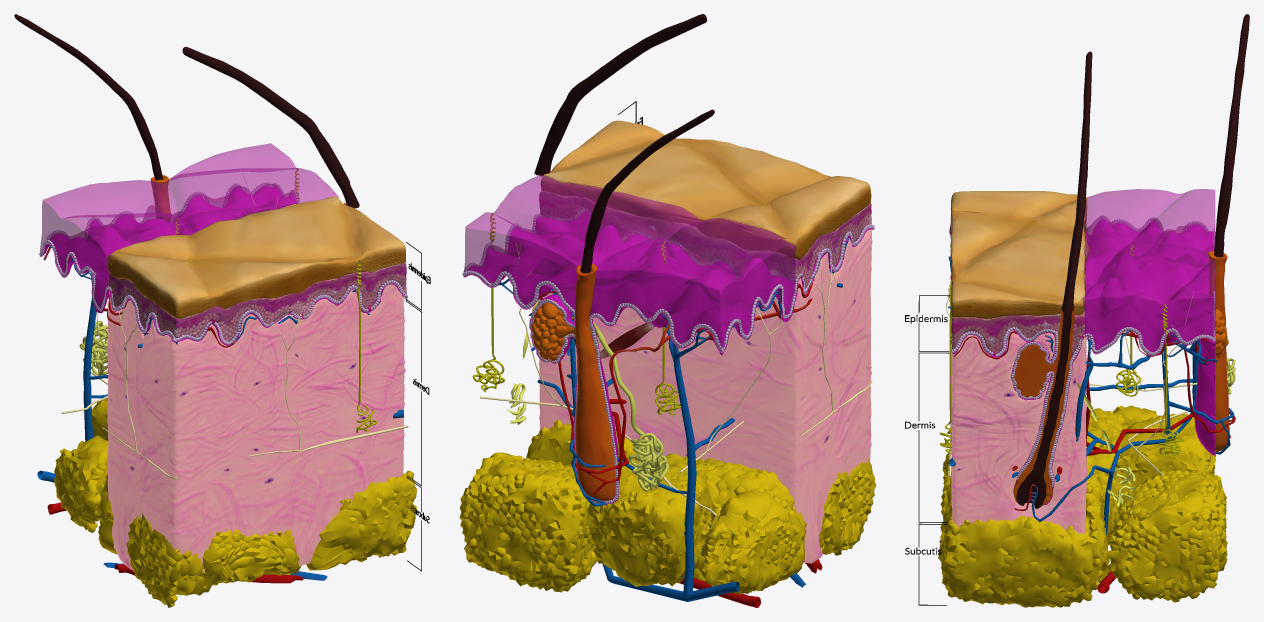
File: anatomy_of_the_skin.glb
The picture shows the model from 3 angles, left to right: view 1: azimuth 30°, elevation 25°; view 2: azimuth 150°, elevation 25°; view 3: azimuth 270°, elevation 25°; orthographic projection. The views are drawn at different scales.
Parts seen in each view (by area): view 1: PM3D_Cube3D5_945, Big, PM3D_Sphere3D2_343, PM3D_Cube3D2, Extract6, Epischdermis, Skin_ZSphere_4, PM3D_Cube3D5_953, Skin_ZSphere6, Skin_ZSphere7, Extract3_1, Epidermis (+2 smaller); view 2: PM3D_Sphere3D2_343, PM3D_Cube3D5_945, PM3D_Cube3D2, Big, Extract6, Skin_ZSphere6, Extract1, Epischdermis, Skin_ZSphere_4, PM3D_Cube3D5_953, Extract3_1, Skin_ZSphere7 (+3 smaller); view 3: PM3D_Sphere3D2_343, PM3D_Cube3D2, PM3D_Cube3D5_945, Extract6, Big, Skin_ZSphere_4, Skin_ZSphere6, Extract1, PM3D_Cube3D5_953, Epischdermis, Skin_ZSphere29_11, Epidermis (+2 smaller).
Part boxes in pixels (<box>): PM3D_Cube3D5_945: <box>107,284,405,574</box>; Big: <box>107,196,405,318</box>; PM3D_Sphere3D2_343: <box>54,398,417,607</box>; PM3D_Cube3D2: <box>40,143,338,308</box>; Extract6: <box>40,186,406,345</box>; Epischdermis: <box>108,261,406,341</box>; Skin_ZSphere_4: <box>14,14,359,208</box>; PM3D_Cube3D5_953: <box>39,183,407,344</box>; Skin_ZSphere6: <box>37,245,406,583</box>; Skin_ZSphere7: <box>61,173,408,479</box>; Extract3_1: <box>79,320,108,375</box>; Epidermis: <box>405,242,430,571</box>; PM3D_Sphere3D2_343: <box>459,420,876,594</box>; PM3D_Cube3D5_945: <box>539,229,872,563</box>; PM3D_Cube3D2: <box>464,175,796,348</box>; Big: <box>541,120,871,259</box>; Extract6: <box>463,211,873,504</box>; Skin_ZSphere6: <box>499,238,848,607</box>; Extract1: <box>531,171,615,501</box>; Epischdermis: <box>539,191,871,288</box>; Skin_ZSphere_4: <box>534,14,714,273</box>; PM3D_Cube3D5_953: <box>462,214,874,503</box>; Extract3_1: <box>592,320,669,491</box>; Skin_ZSphere7: <box>480,244,872,515</box>; PM3D_Sphere3D2_343: <box>938,405,1227,607</box>; PM3D_Cube3D2: <box>1082,189,1215,352</box>; PM3D_Cube3D5_945: <box>950,256,1087,533</box>; Extract6: <box>951,219,1215,504</box>; Big: <box>950,191,1088,318</box>; Skin_ZSphere_4: <box>1016,14,1249,508</box>; Skin_ZSphere6: <box>948,244,1235,593</box>; Extract1: <box>1013,251,1229,507</box>; PM3D_Cube3D5_953: <box>951,217,1215,487</box>; Epischdermis: <box>949,218,1085,355</box>; Skin_ZSphere29_11: <box>940,220,1183,458</box>; Epidermis: <box>905,295,949,605</box>.
Bounding box in the file's own units: 23.04 × 42.37 × 27.06.
Materials: 16 (7 with a texture image).
